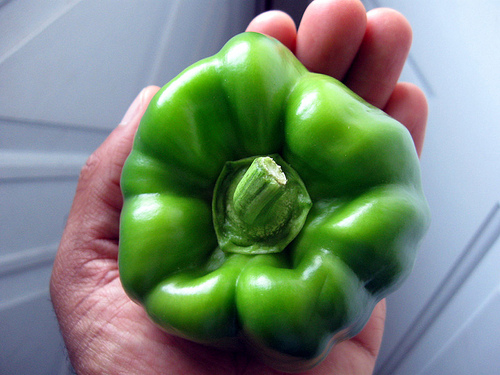capsicum: (118, 33, 429, 371)
